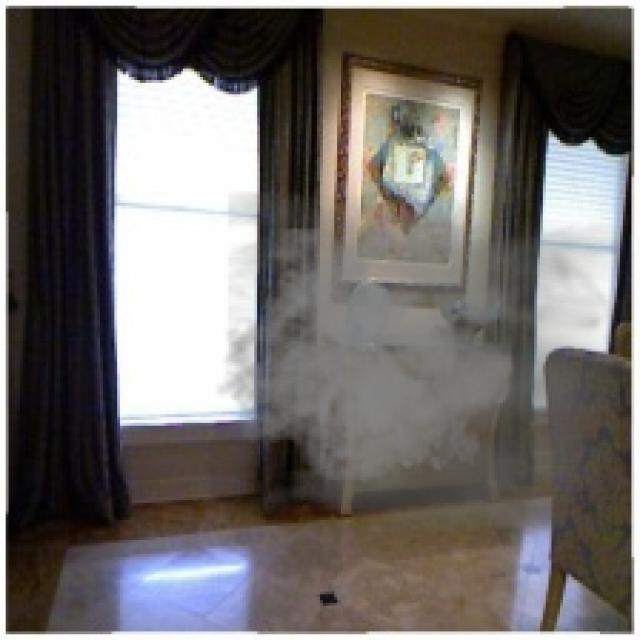smoke: (214, 192, 620, 537)
